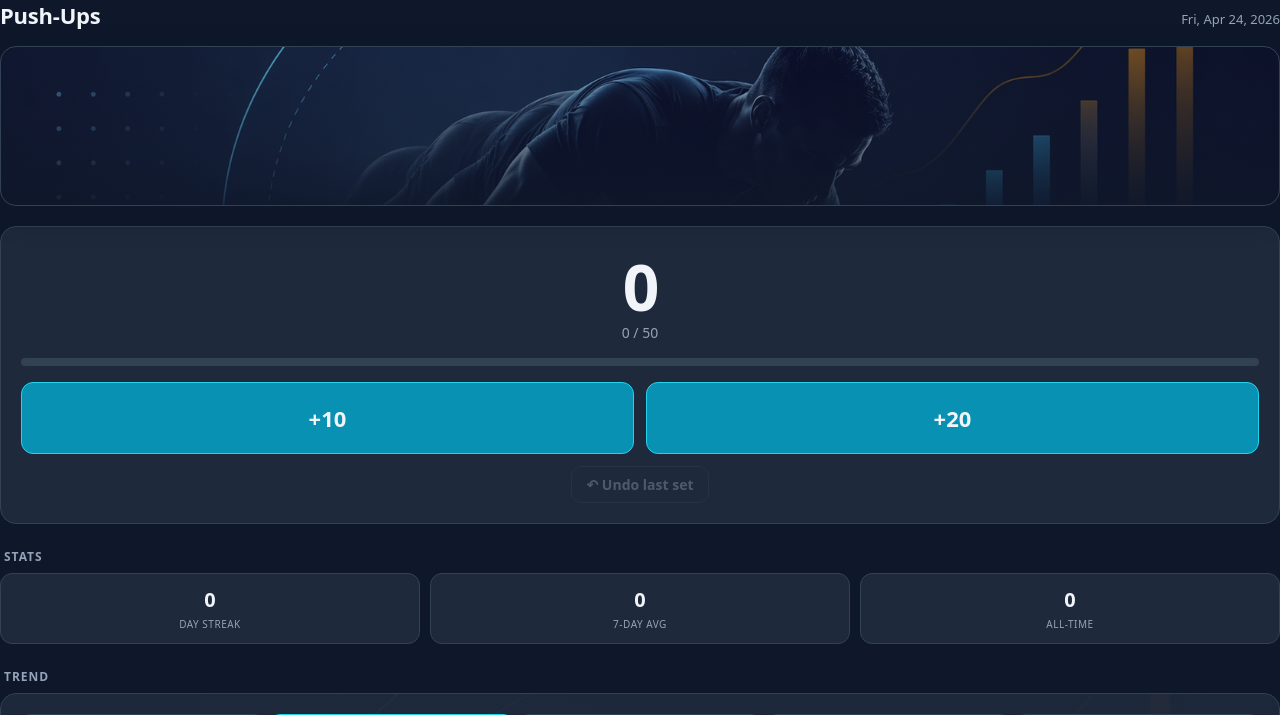
PushUps screen › shows "Goal hit!" when total meets the daily goal
Click the button "+20": click(952, 418) [646,382,1259,454]
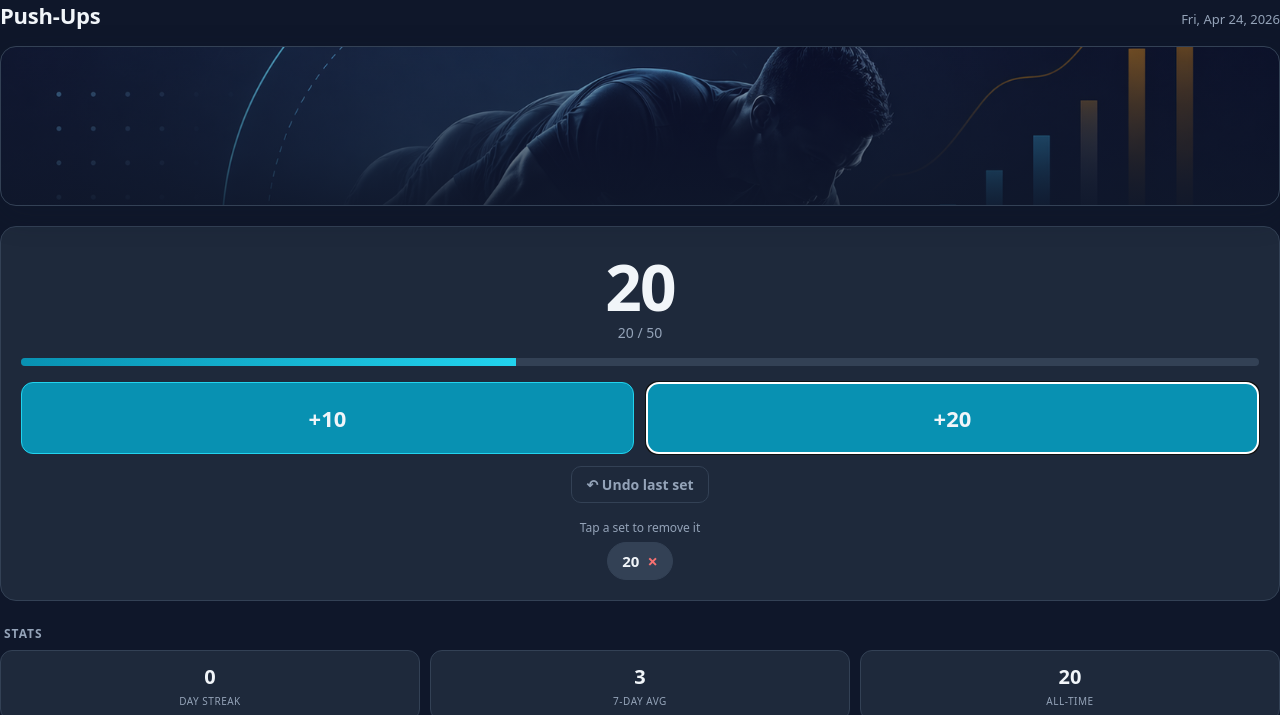
Click the button "+20": click(952, 418) [646,382,1259,454]
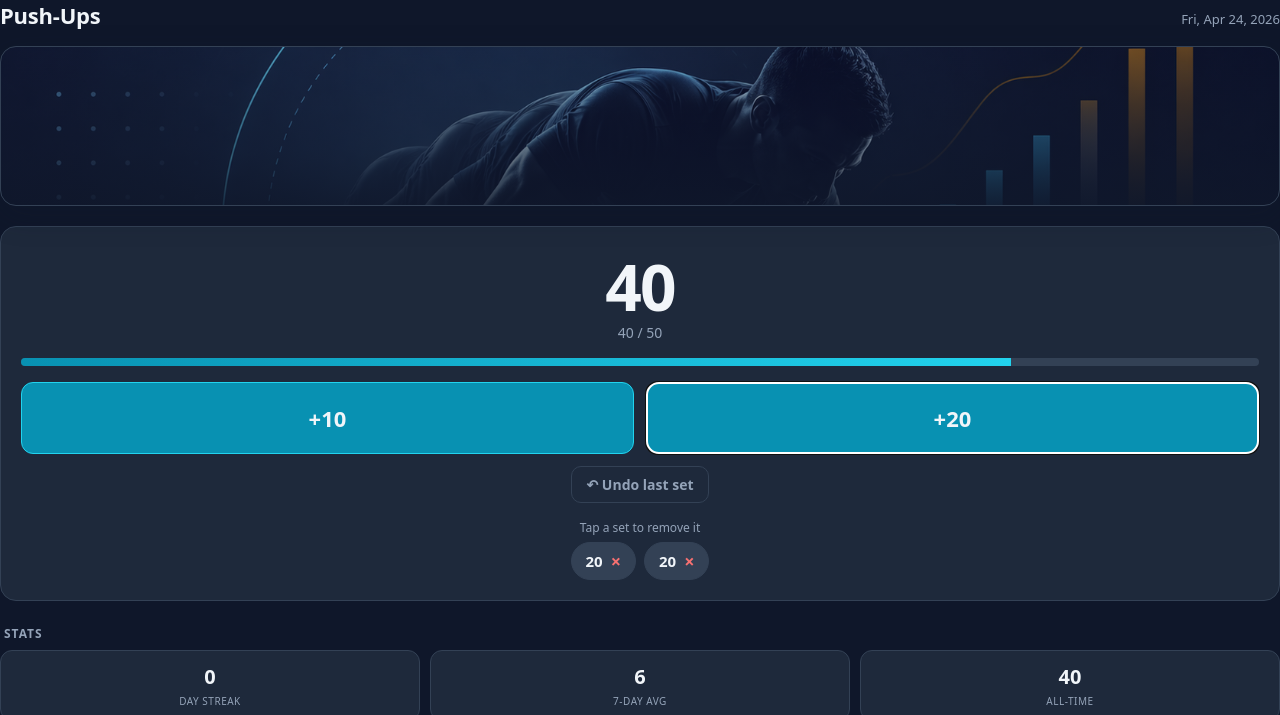
Click the button "+10": click(328, 418) [21,382,634,454]
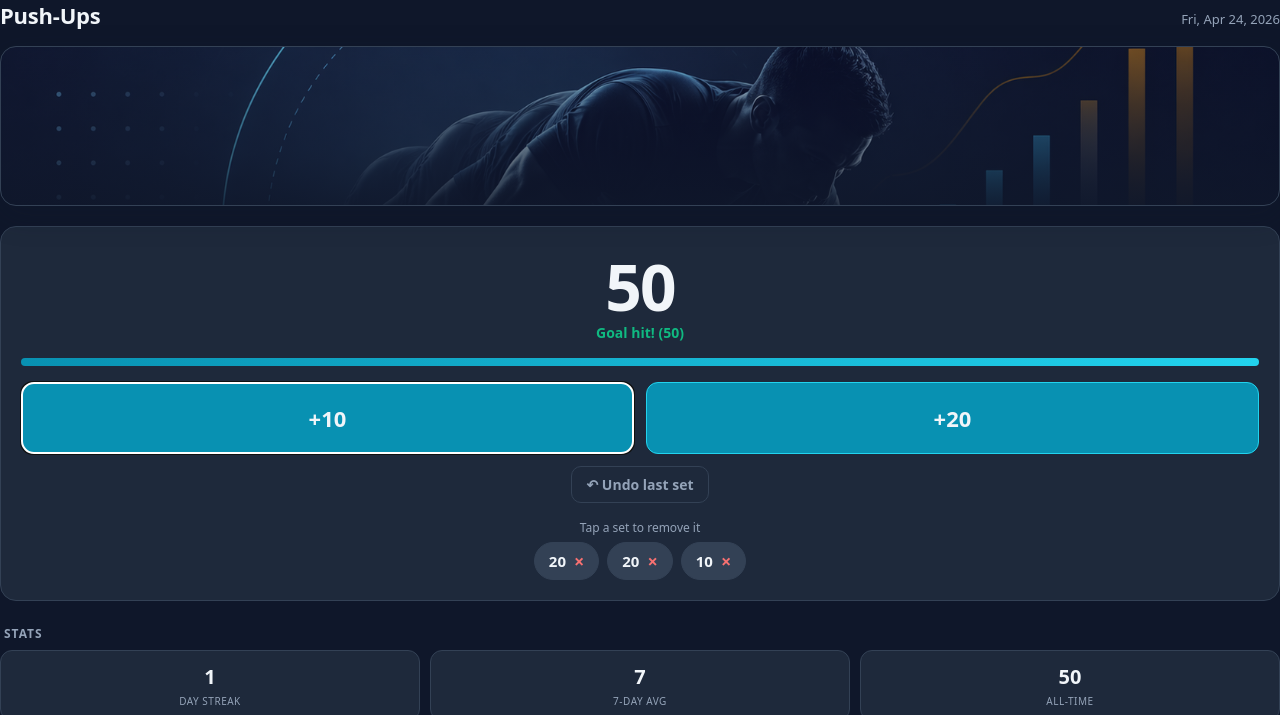
Expected: the text "Goal hit! (50)" is shown, [596,323,684,342]
